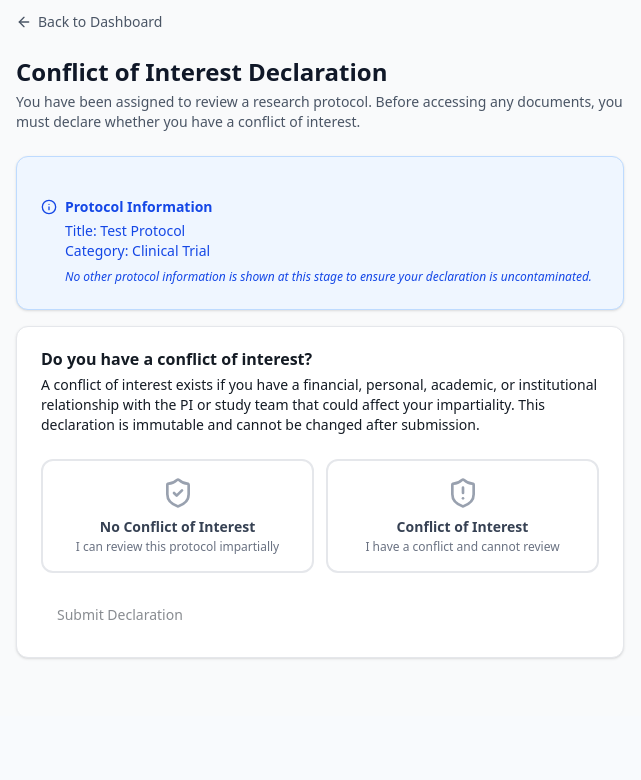
Test: COIDeclarationClient › shows details textarea when Conflict selected
What coordinates should you click on to do the following:
click the button "Conflict of Interest"
I would click on:
 (462, 516)
Its box is [326,459,599,573].
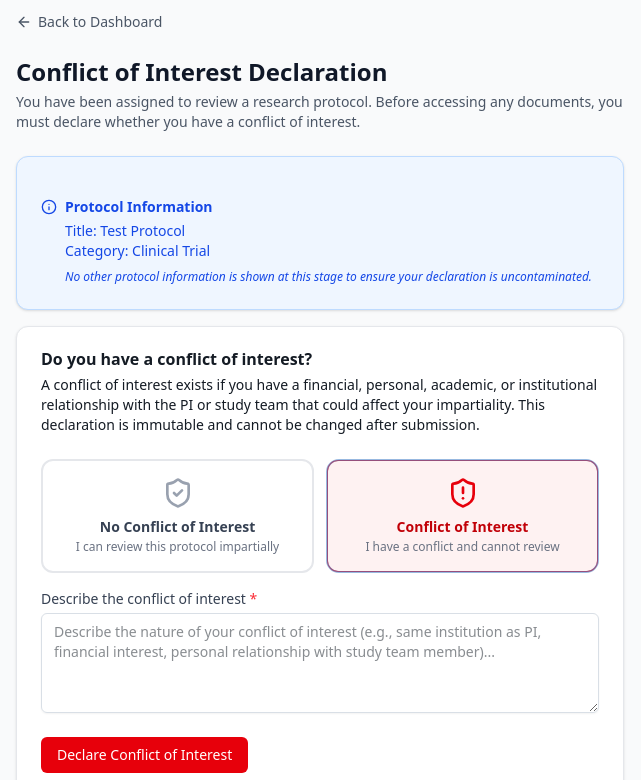
Result: the text box with placeholder "Describe the nature of your conflict" is shown at [41,613,599,713]
Result: the button "Declare Conflict of Interest" is enabled at [41,737,248,773]
